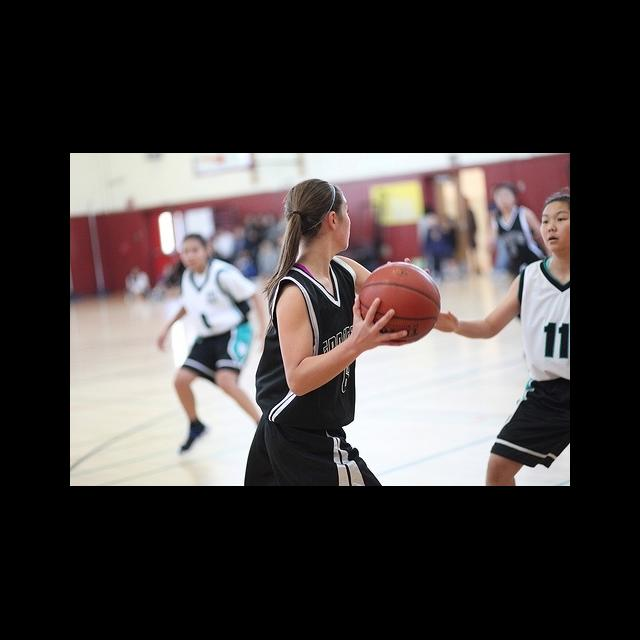basketball: (359, 263, 443, 346)
